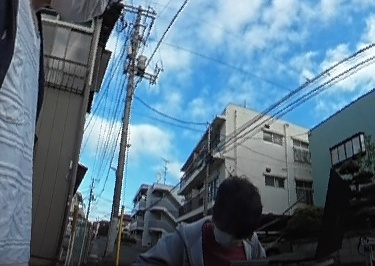person: (141, 175, 272, 266)
